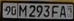0: (11, 5, 17, 16)
2: (29, 4, 36, 17)
3: (43, 4, 51, 17)
9: (36, 4, 43, 17), (5, 5, 11, 16)
A: (59, 5, 68, 17)
F: (51, 4, 59, 17)
M: (18, 4, 27, 17)
